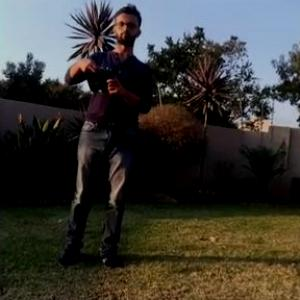follow: (54, 0, 158, 274)
